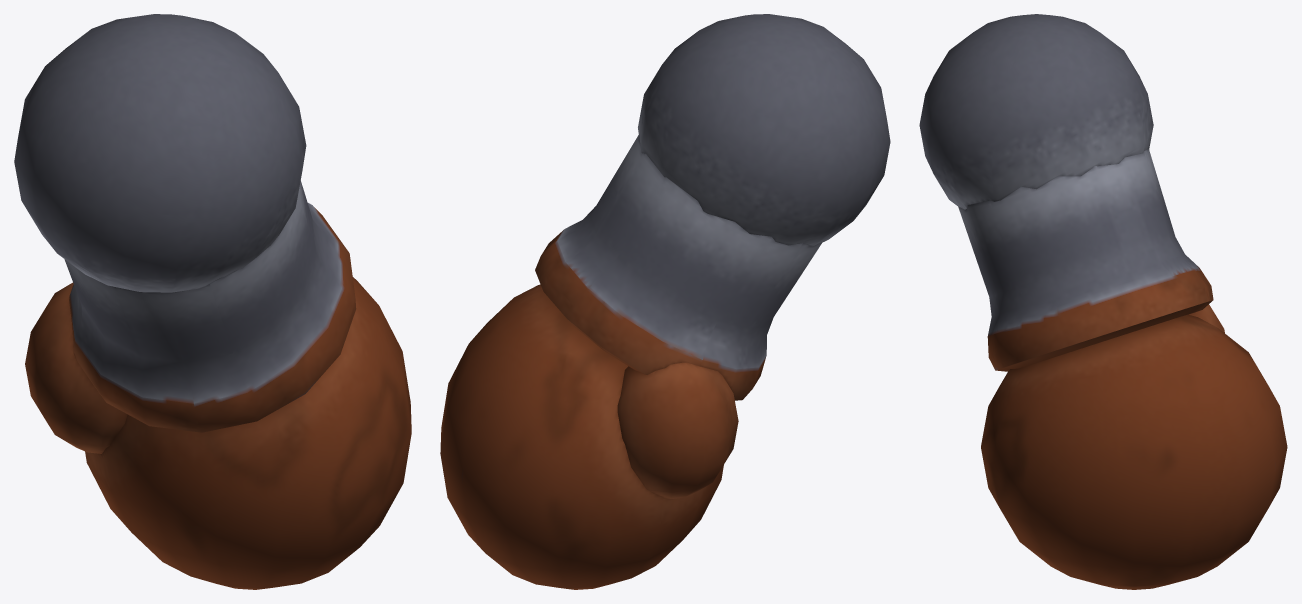
The model's file is forearm_r.glb.
3 renders of one model, left to right at view 1: azimuth 30°, elevation 25°; view 2: azimuth 150°, elevation 25°; view 3: azimuth 270°, elevation 25°, orthographic. The views are drawn at different scales.
Visible parts, largest first — view 1: forearm_r; view 2: forearm_r; view 3: forearm_r.
Boxes of the visible parts, x1,y1,x2,y2 form: forearm_r: (14,14,411,589); forearm_r: (440,14,890,589); forearm_r: (919,14,1287,589).
Bounding box in the file's own units: 0.136 × 0.1974 × 0.132.
2 materials, 2 textured.
